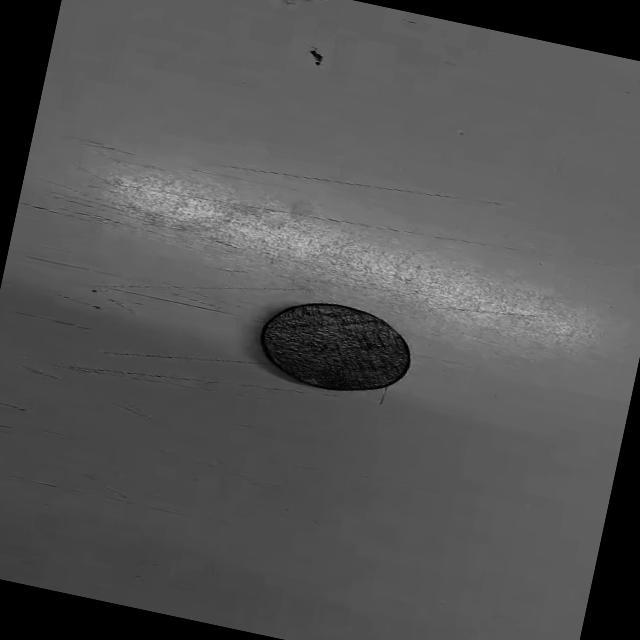rcircle: (260, 303, 411, 391)
